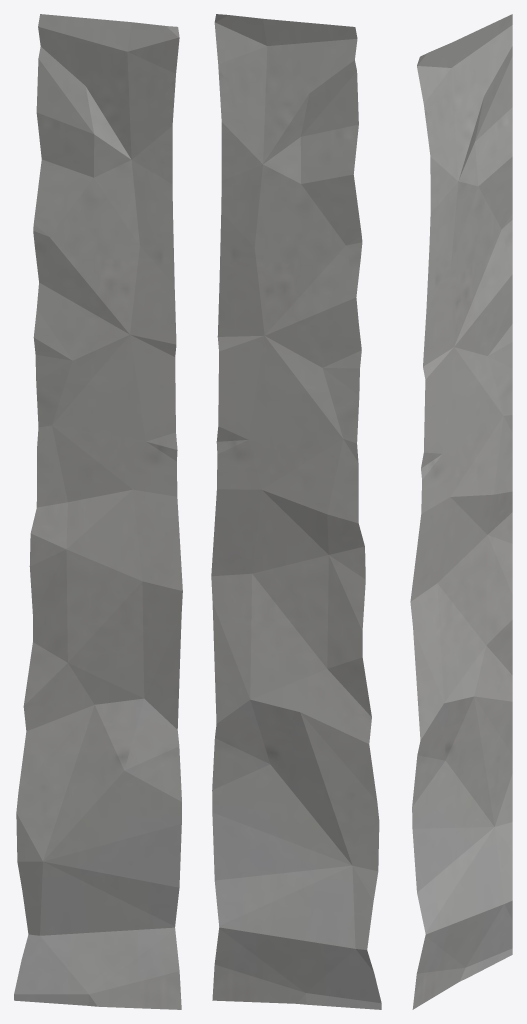
3 views of the same model, side by side, from view 1: azimuth 30°, elevation 25°; view 2: azimuth 210°, elevation 25°; view 3: azimuth 270°, elevation 25° (orthographic). The views are drawn at different scales.
Bounding box in the file's own units: 0.104 × 0.8374 × 0.0813.
1 material, 1 textured.
